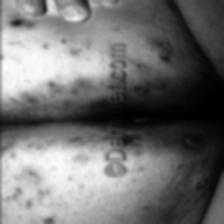Non-Cancerous Skin Condition: (150, 42, 170, 60), (129, 116, 157, 126), (184, 134, 204, 148), (192, 92, 208, 104), (166, 0, 178, 12), (66, 136, 80, 144), (10, 20, 20, 28), (42, 217, 52, 224), (46, 82, 54, 86), (200, 181, 206, 185)
